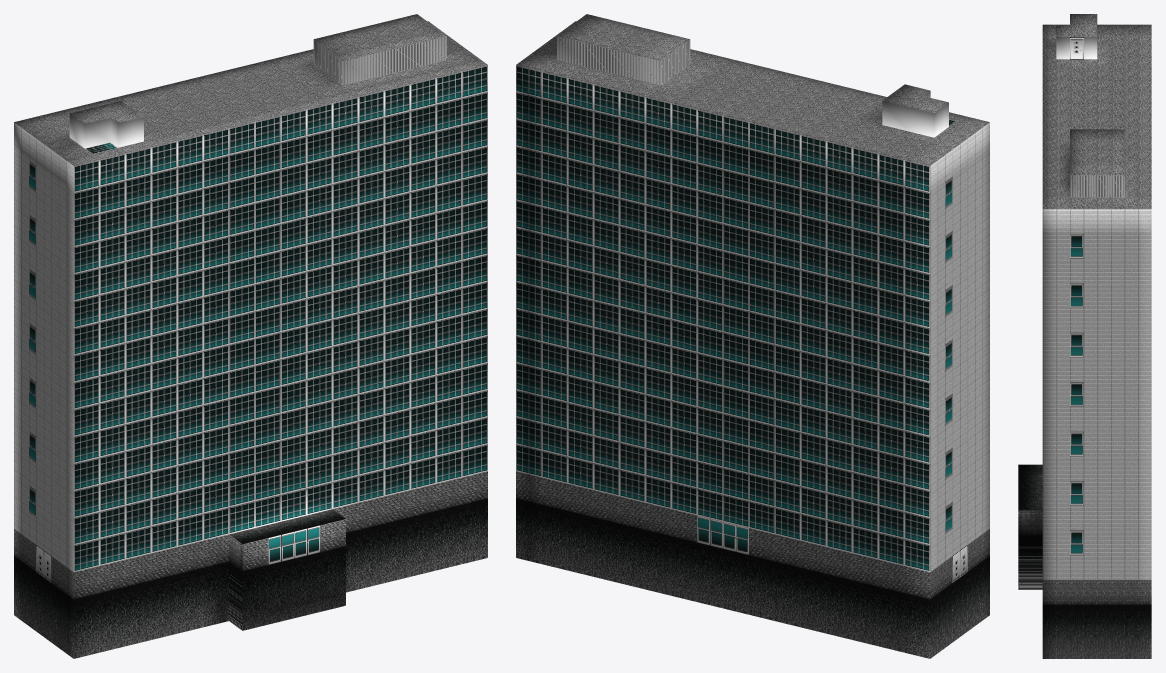
File: kantoor_mod1_1b.fbx
3 renders of one model, left to right at view 1: azimuth 30°, elevation 25°; view 2: azimuth 150°, elevation 25°; view 3: azimuth 270°, elevation 25°, orthographic. The views are drawn at different scales.
Parts seen in each view (by area): view 1: kantoor_mod1_1b; view 2: kantoor_mod1_1b; view 3: kantoor_mod1_1b.
Boxes of the visible parts, <box> form: kantoor_mod1_1b: <box>14,14,487,658</box>; kantoor_mod1_1b: <box>516,14,989,658</box>; kantoor_mod1_1b: <box>1018,14,1151,658</box>.
Bounding box in the file's own units: 5760 × 6876 × 1764.
